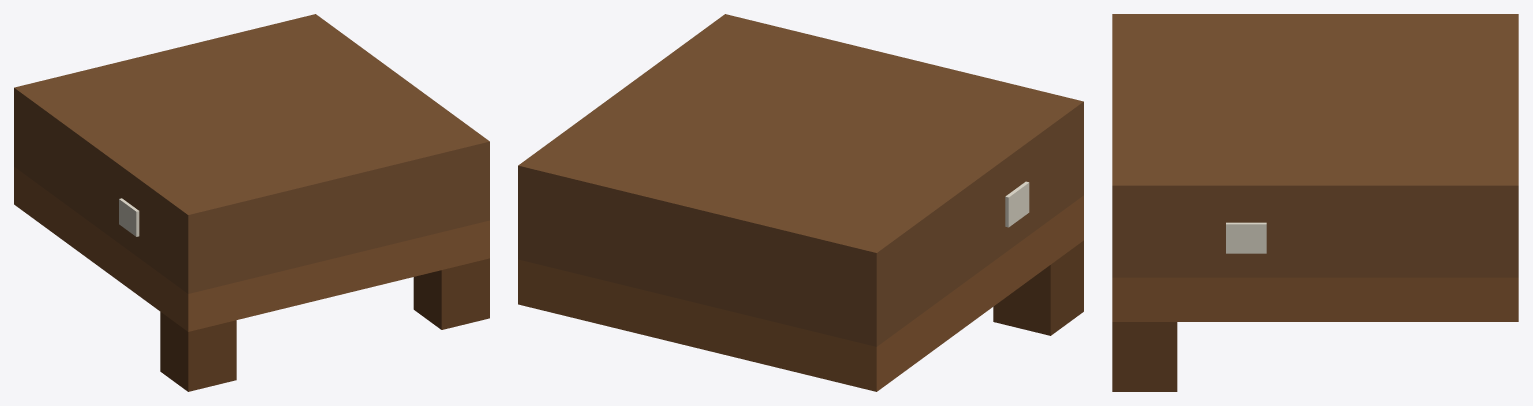
Rendered from bed_brown_foot.glb.
The picture shows the model from 3 angles, left to right: view 1: azimuth 30°, elevation 25°; view 2: azimuth 150°, elevation 25°; view 3: azimuth 270°, elevation 25°; orthographic projection. The views are drawn at different scales.
Visible parts, largest first — view 1: body; view 2: body; view 3: body.
Part boxes in pixels (<box>): body: <box>14,14,489,391</box>; body: <box>518,14,1083,391</box>; body: <box>1112,14,1518,391</box>.
Size of the model in its own units: 1.02 by 0.56 by 1.
